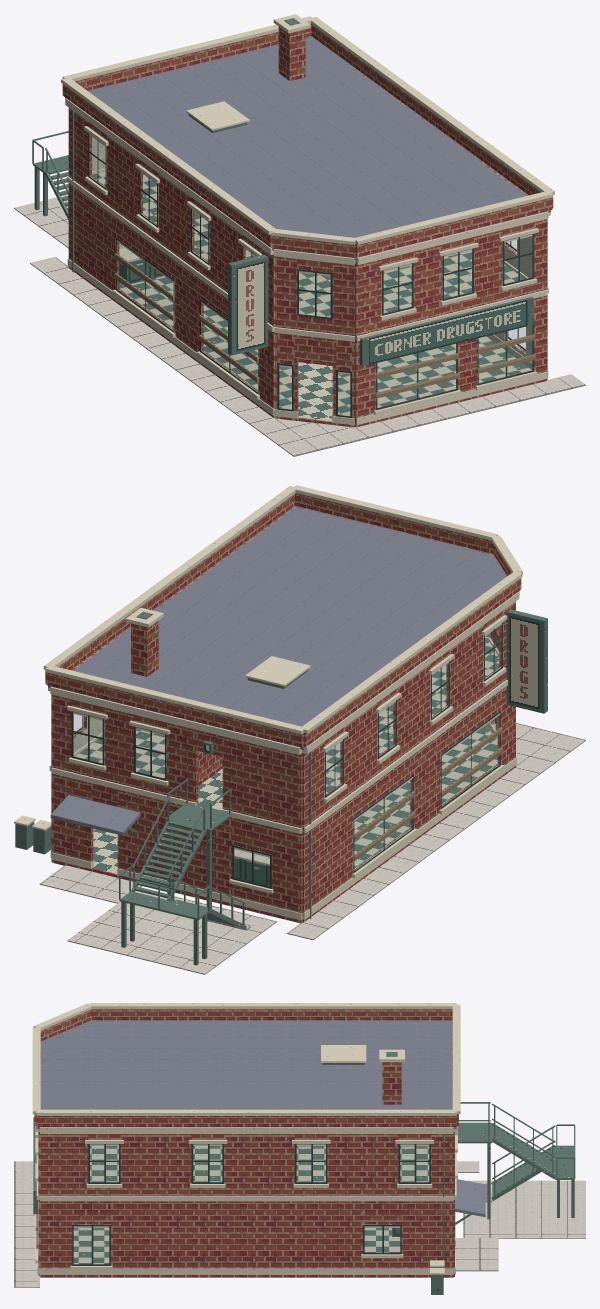
The model's file is corner-drugstore-closed.glb.
3 renders of one model, top to bottom at view 1: azimuth 30°, elevation 25°; view 2: azimuth 150°, elevation 25°; view 3: azimuth 270°, elevation 25°, orthographic. The views are drawn at different scales.
Visible parts, largest first — view 1: structure__wall_brick, structure__roof_membrane, structure__detail_stone, structure__glass_shop, structure__ground_floor, lot__ground_paving, sign_name, structure__detail_panels, projecting_trade_sign__sign_name, exterior_stairs__detail_steel, structure__detail_steel, projecting_trade_sign__detail_steel; view 2: structure__wall_brick, structure__roof_membrane, structure__detail_stone, lot__ground_paving, structure__glass_shop, structure__ground_floor, exterior_stairs__detail_steel, projecting_trade_sign__sign_name, structure__detail_panels, projecting_trade_sign__detail_steel, structure__detail_steel; view 3: structure__wall_brick, structure__roof_membrane, structure__detail_stone, lot__ground_paving, structure__glass_shop, structure__ground_floor, exterior_stairs__detail_steel, structure__detail_steel.
Boxes of the visible parts, x1=… form: structure__wall_brick: x1=62, y1=24, x2=553, y2=427; structure__roof_membrane: x1=65, y1=36, x2=550, y2=259; structure__detail_stone: x1=61, y1=14, x2=554, y2=425; structure__glass_shop: x1=88, y1=133, x2=534, y2=417; structure__ground_floor: x1=92, y1=171, x2=531, y2=421; lot__ground_paving: x1=14, y1=194, x2=585, y2=456; sign_name: x1=369, y1=299, x2=527, y2=364; structure__detail_panels: x1=114, y1=253, x2=535, y2=398; projecting_trade_sign__sign_name: x1=236, y1=261, x2=265, y2=350; exterior_stairs__detail_steel: x1=32, y1=131, x2=68, y2=219; structure__detail_steel: x1=72, y1=18, x2=533, y2=366; projecting_trade_sign__detail_steel: x1=228, y1=254, x2=268, y2=355; structure__wall_brick: x1=45, y1=493, x2=521, y2=923; structure__roof_membrane: x1=48, y1=505, x2=506, y2=835; structure__detail_stone: x1=43, y1=485, x2=522, y2=920; lot__ground_paving: x1=39, y1=719, x2=585, y2=974; structure__glass_shop: x1=71, y1=622, x2=502, y2=888; structure__ground_floor: x1=75, y1=640, x2=499, y2=873; exterior_stairs__detail_steel: x1=119, y1=778, x2=246, y2=965; projecting_trade_sign__sign_name: x1=509, y1=616, x2=539, y2=708; structure__detail_panels: x1=234, y1=727, x2=502, y2=886; projecting_trade_sign__detail_steel: x1=506, y1=609, x2=547, y2=713; structure__detail_steel: x1=61, y1=611, x2=311, y2=918; structure__wall_brick: x1=34, y1=1009, x2=458, y2=1277; structure__roof_membrane: x1=36, y1=1020, x2=485, y2=1217; structure__detail_stone: x1=32, y1=1003, x2=460, y2=1274; lot__ground_paving: x1=14, y1=1161, x2=585, y2=1287; structure__glass_shop: x1=72, y1=1144, x2=430, y2=1265; structure__ground_floor: x1=72, y1=1146, x2=429, y2=1264; exterior_stairs__detail_steel: x1=458, y1=1102, x2=575, y2=1219; structure__detail_steel: x1=33, y1=1052, x2=475, y2=1277.
Size of what is drawn, in the model's own units: 15.75 by 10.58 by 27.47.
Materials: 12 (12 with a texture image).
